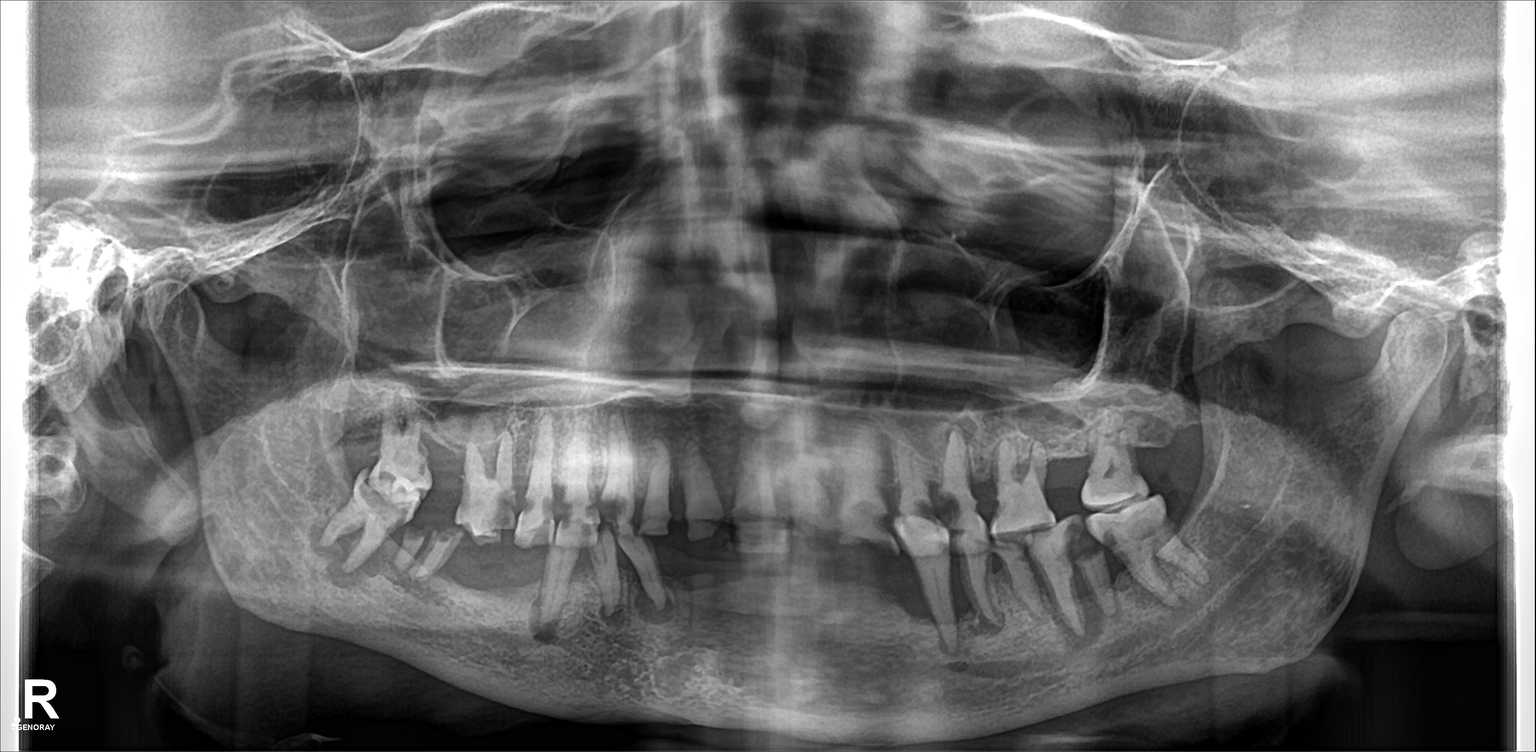Dental Caries: (914, 477, 967, 529), (1063, 527, 1101, 560), (594, 493, 626, 524), (546, 486, 566, 530)
Endodontically Treated Tooth: (454, 426, 521, 539)
Missing Tooth: (462, 545, 538, 627), (1140, 402, 1202, 489), (723, 534, 769, 634), (670, 538, 717, 629), (425, 421, 468, 498), (1043, 436, 1089, 505), (345, 389, 383, 463)
Periapical Lesion: (320, 463, 417, 579)
Retained Root: (425, 508, 460, 593), (391, 512, 426, 593)
